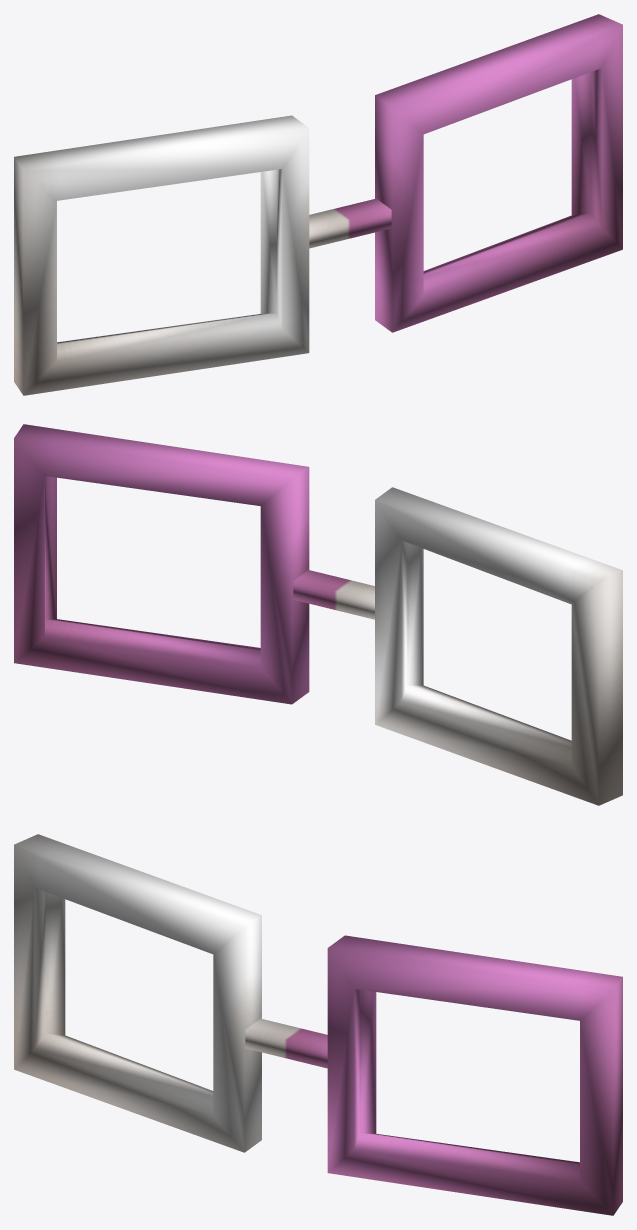
The model's file is M_GlassesA_4.glb.
3 views of the same model, one above another, from view 1: azimuth 30°, elevation 25°; view 2: azimuth 150°, elevation 25°; view 3: azimuth 330°, elevation 25° (orthographic).
Parts seen in each view (by area): view 1: SM_GlassesA; view 2: SM_GlassesA; view 3: SM_GlassesA.
Boxes of the visible parts, <box> form: SM_GlassesA: <box>14,14,622,395</box>; SM_GlassesA: <box>14,424,622,805</box>; SM_GlassesA: <box>14,834,622,1215</box>.
Size of the model in its own units: 0.8678 by 0.3112 by 0.1173.
Materials: 1 (1 with a texture image).
